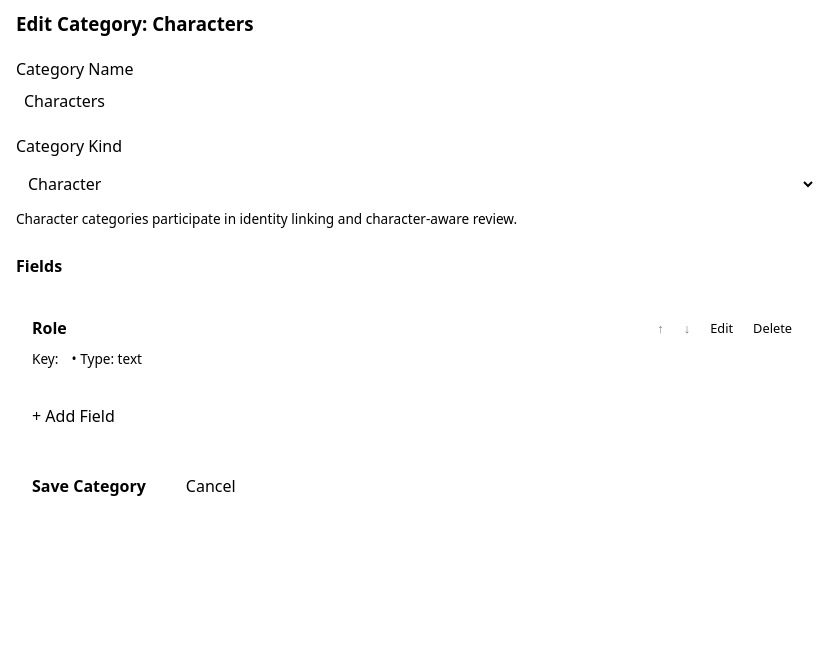
Test case: CategoryEditor field validation › clears a field error when the author edits that field
Click the button "Save Category": [89, 486] box [16,467,162,505]
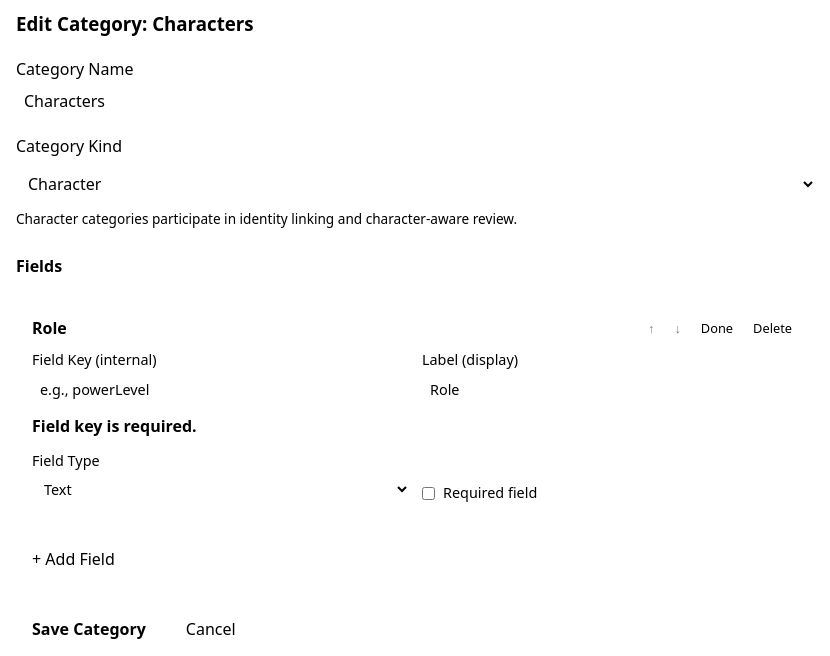
In the field with placeholder "e.g., powerLevel": [229, 389] box [32,371,426,408], type "role"
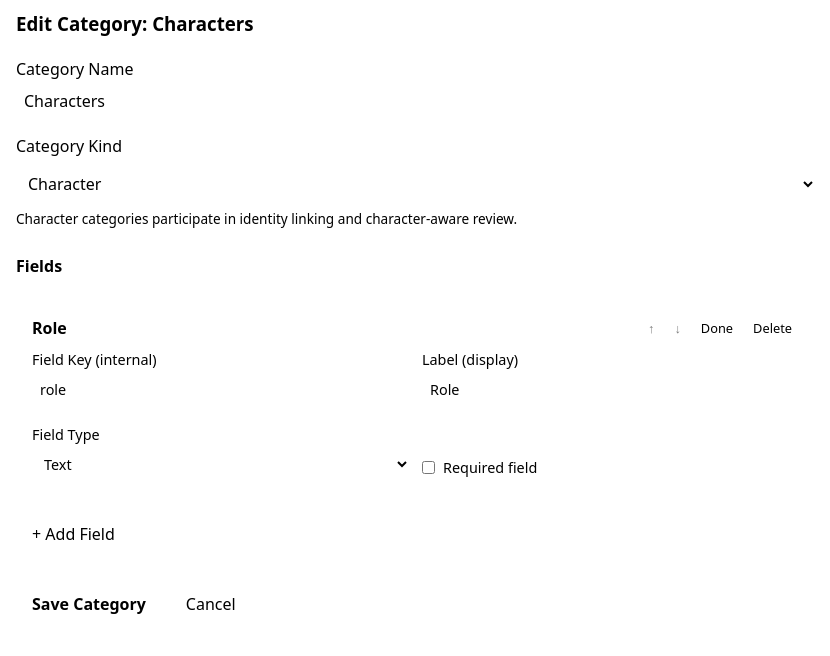
Expected: the text "Field key is required." is gone
